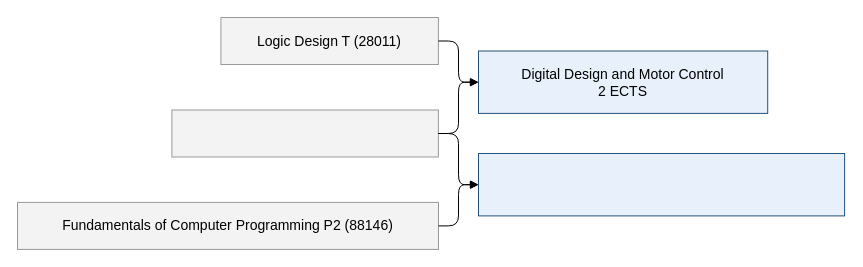
Image size: 863x267. Some labels were removed from this diagram. Here are the shapes that lost their labels. From the top down, the centre of each, then its label:
At (304,133): "Laboratory of Making (81678)".
At (661,184): "Electronics Foundations and Communication 3 ECTS".
